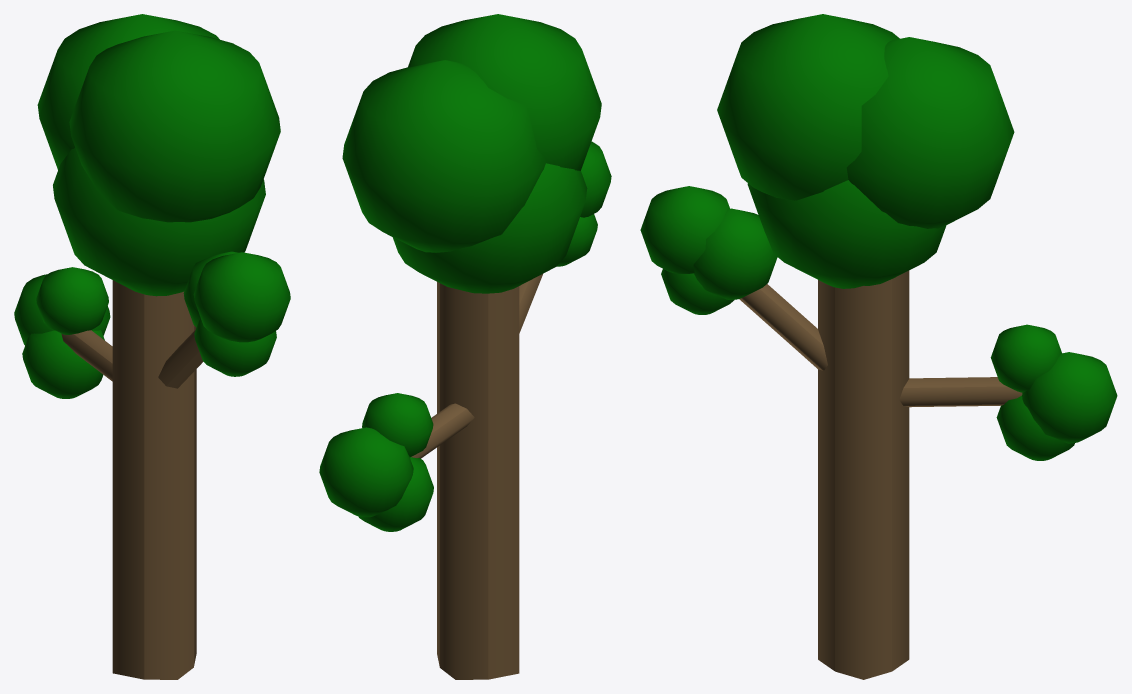
The model's file is tree.fbx.
3 views of the same model, side by side, from view 1: azimuth 30°, elevation 25°; view 2: azimuth 150°, elevation 25°; view 3: azimuth 270°, elevation 25° (orthographic). The views are drawn at different scales.
Visible parts, largest first — view 1: pSphere8, pCube1, pSphere9, pSphere6, pSphere7, pSphere2, pSphere3, pSphere4, pSphere1, pCube3, pCube2, pSphere5; view 2: pCube1, pSphere7, pSphere8, pSphere9, pSphere1, pSphere2, pSphere3, pSphere6, pCube3, pSphere4, pCube2; view 3: pCube1, pSphere8, pSphere7, pSphere9, pSphere1, pSphere6, pSphere5, pSphere2, pCube3, pCube2, pSphere3, pSphere4.
Part boxes in pixels (x1,y1,x2,y2): pSphere8: (69,30,280,222); pCube1: (112,280,196,679); pSphere9: (53,148,265,296); pSphere6: (193,252,290,342); pSphere7: (37,14,219,169); pSphere2: (36,267,108,334); pSphere3: (22,330,104,398); pSphere4: (194,319,276,376); pSphere1: (14,274,110,345); pCube3: (61,330,112,381); pCube2: (158,329,203,388); pSphere5: (183,251,238,327); pCube1: (437,282,519,679); pSphere7: (342,60,546,252); pSphere8: (408,14,601,170); pSphere9: (393,163,587,293); pSphere1: (319,427,413,517); pSphere2: (362,393,433,457); pSphere3: (358,457,433,531); pSphere6: (580,141,611,217); pCube3: (411,403,474,458); pSphere4: (557,214,597,266); pCube2: (519,274,542,333); pCube1: (818,270,909,679); pSphere8: (717,14,899,200); pSphere7: (846,37,1014,228); pSphere9: (747,180,946,288); pSphere1: (1022,352,1117,443); pSphere6: (640,186,729,273); pSphere5: (693,208,777,299); pSphere2: (990,324,1061,392); pCube3: (899,377,1022,407); pCube2: (739,284,827,370); pSphere3: (996,395,1074,460); pSphere4: (661,269,734,314).
Size of the model in its own units: 7.87 by 24.99 by 16.74.
